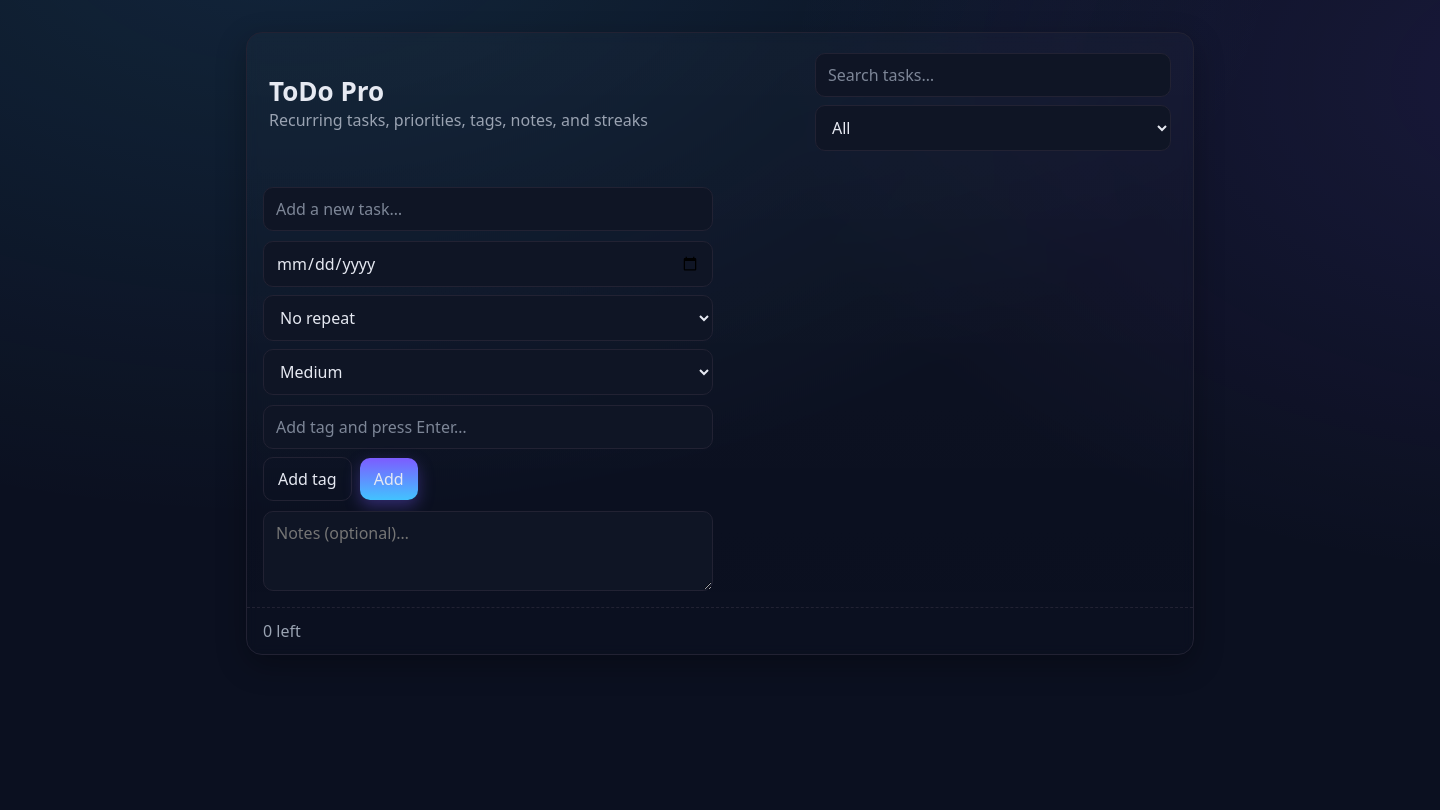
Test: TodoApp basic flows › completing a daily recurring task updates due and shows streak
Type "Meditate" into the field named "New task title" at coordinates (488, 209), box [263,187,713,231]
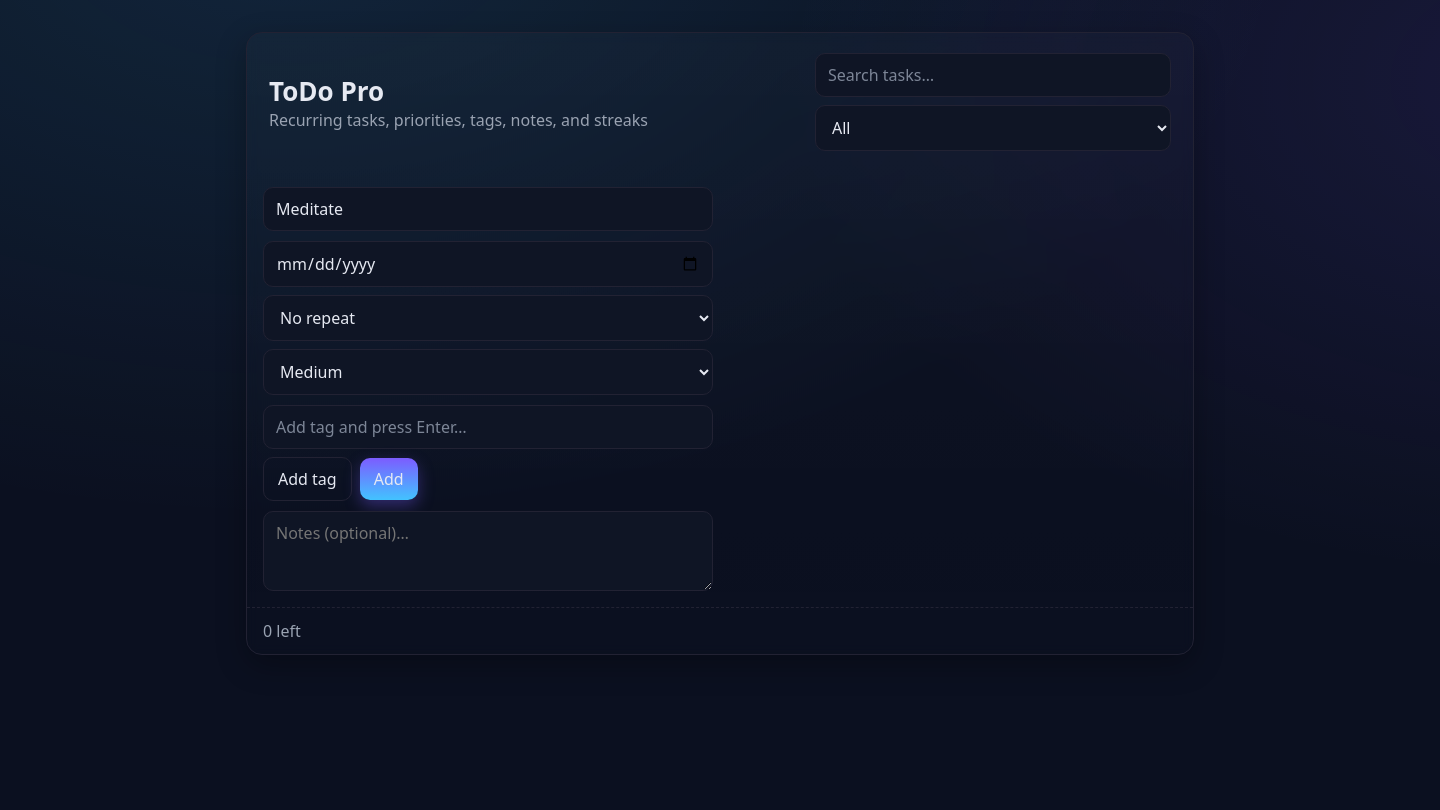
Select "Daily" in the dropdown named "Repeat" at coordinates (488, 318), box [263,295,713,341]
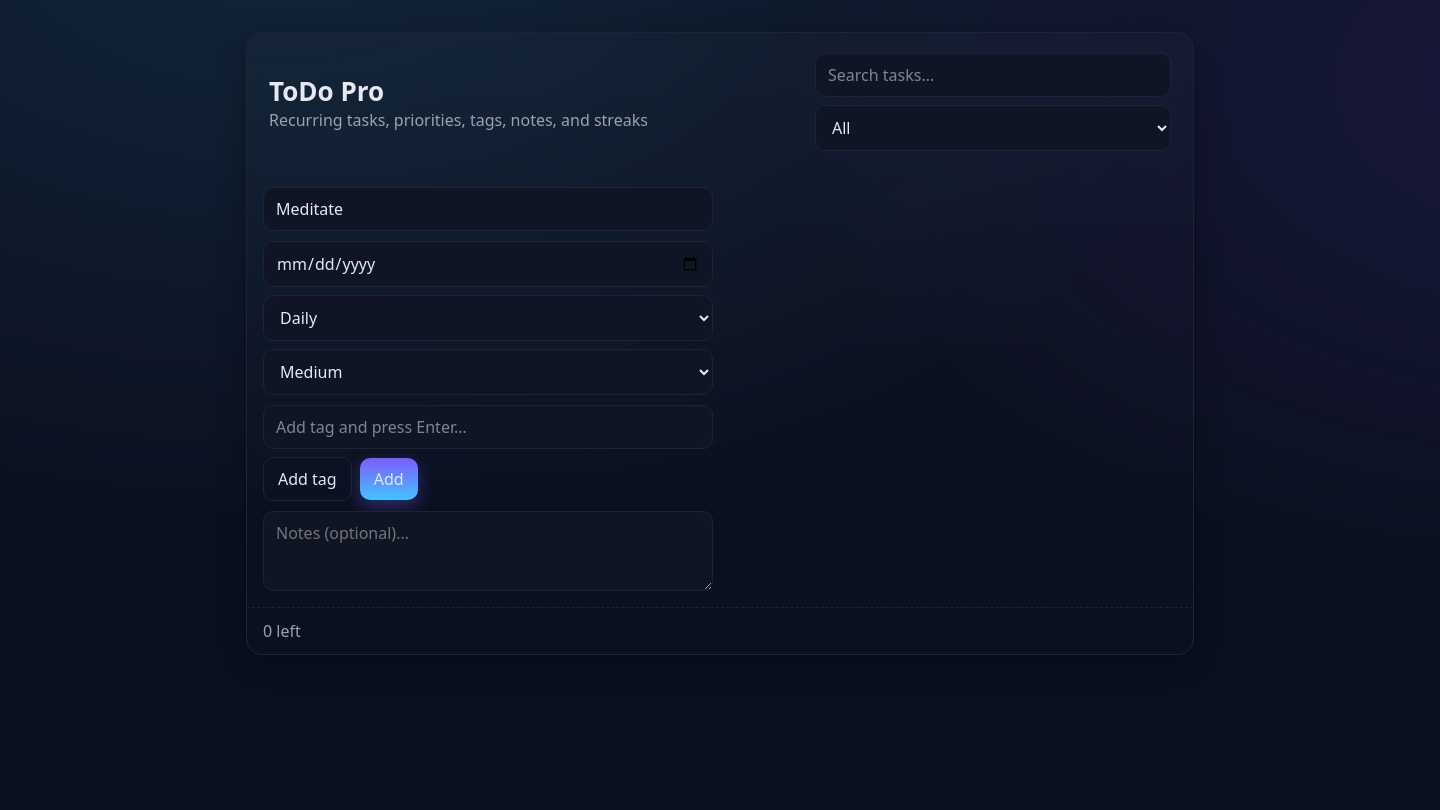
Click the button named "Add task" at coordinates (389, 479), box [360,458,418,500]
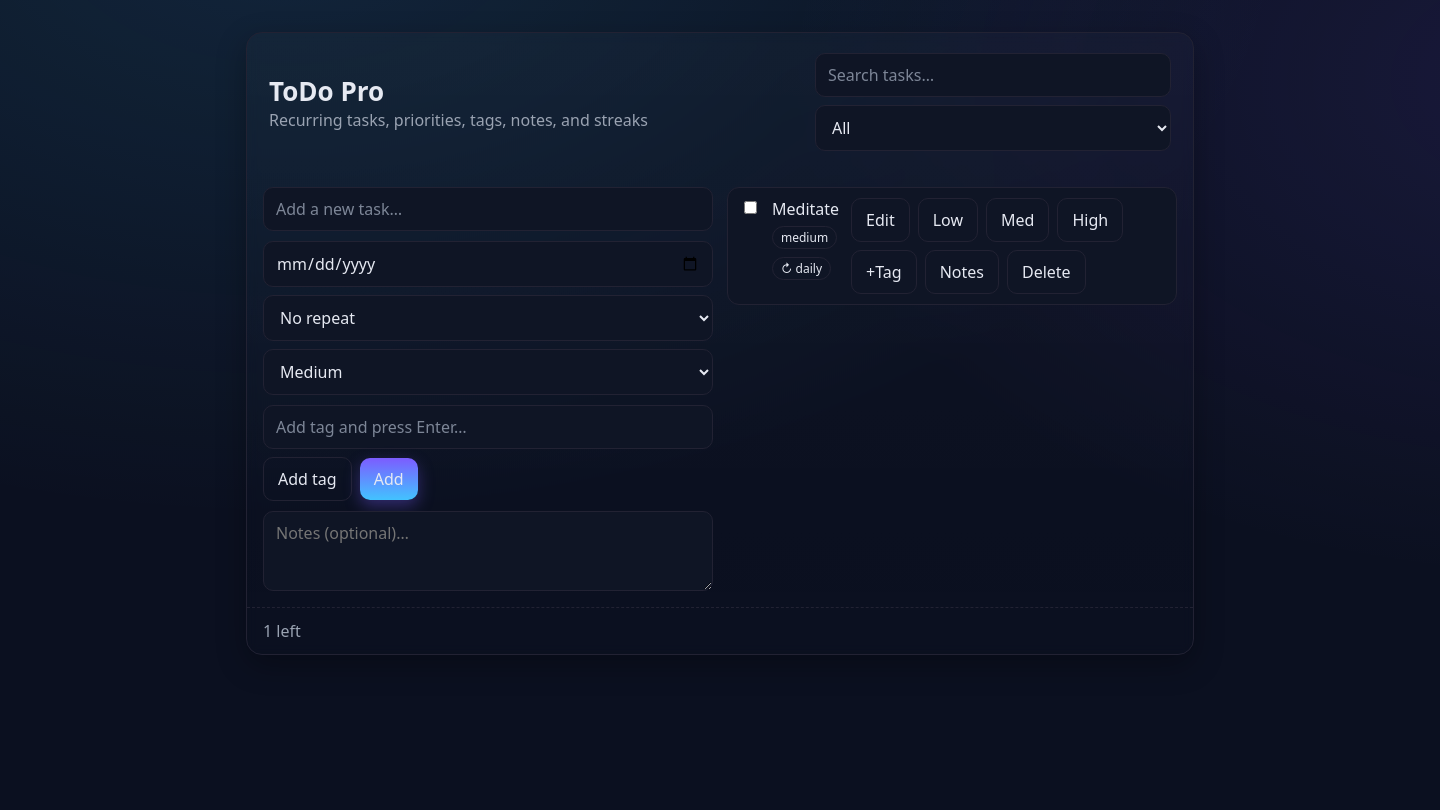
Click the checkbox at coordinates (750, 208), box [744,201,757,214]
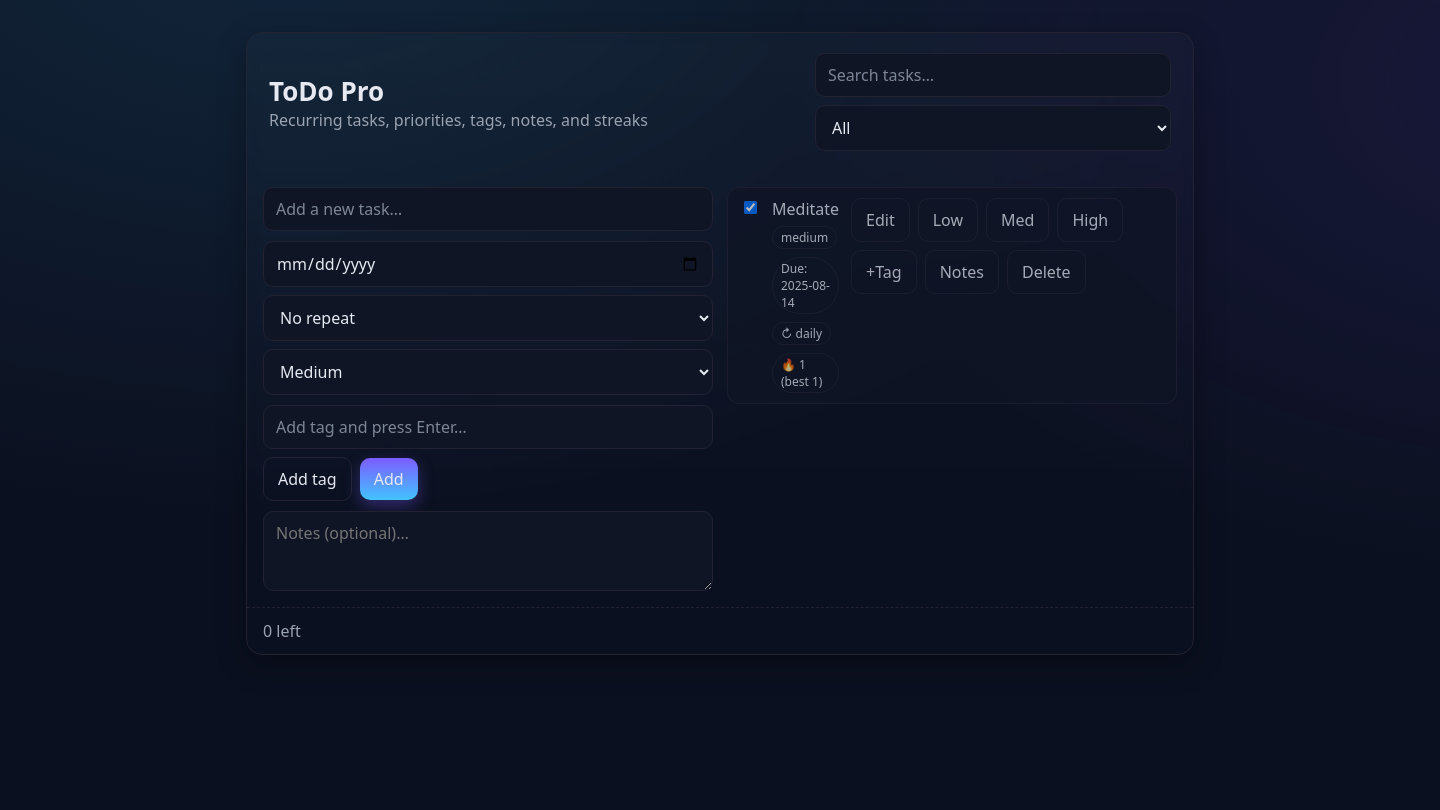
Expected: the text "🔥 1 (best 1)" is shown, [772,353,839,393]
